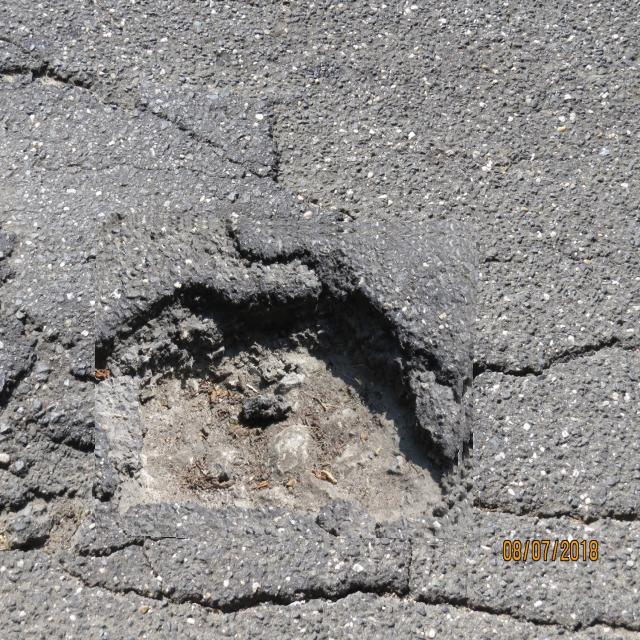Pothole: (95, 217, 477, 538)
